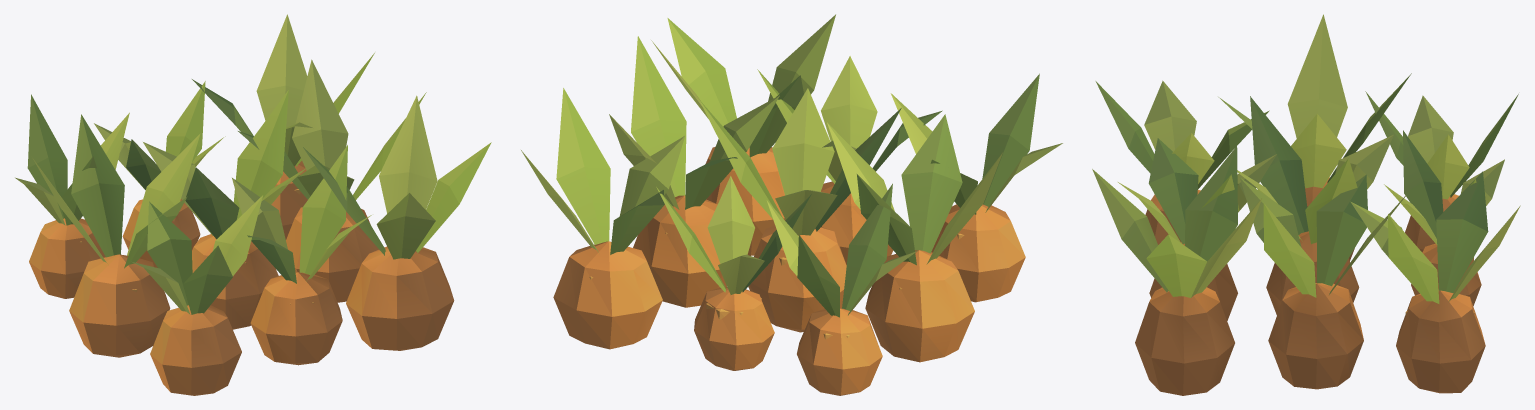
File: carrot.glb
3 views of the same model, side by side, from view 1: azimuth 30°, elevation 25°; view 2: azimuth 150°, elevation 25°; view 3: azimuth 270°, elevation 25° (orthographic). The views are drawn at different scales.
Parts seen in each view (by area): view 1: Reife Möhren; view 2: Reife Möhren; view 3: Reife Möhren.
Part boxes in pixels (box(x1,y1,x2,y2)): Reife Möhren: box(15, 14, 491, 395); Reife Möhren: box(521, 14, 1062, 395); Reife Möhren: box(1092, 14, 1520, 395).
Size of the model in its own units: 1.23 by 0.6686 by 1.15.
